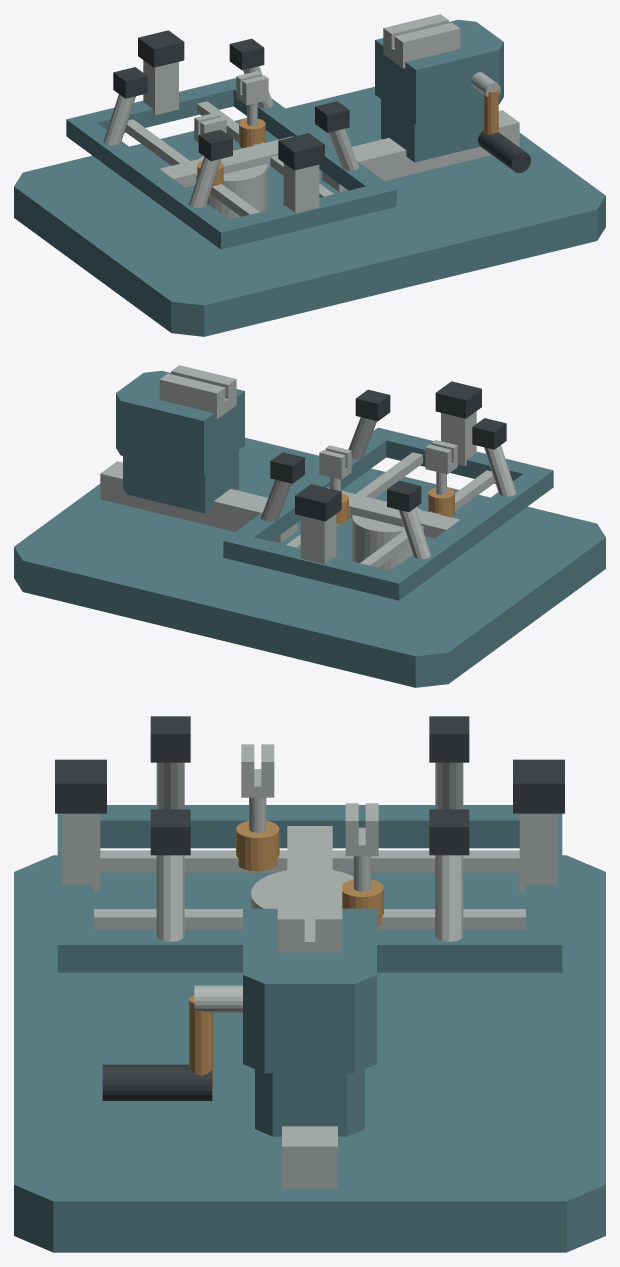
3 views of the same model, one above another, from view 1: azimuth 30°, elevation 25°; view 2: azimuth 150°, elevation 25°; view 3: azimuth 270°, elevation 25° (orthographic). The views are drawn at different scales.
Parts seen in each view (by area): view 1: WholeChamferedBenchtopBase, WholeOpenRectangularCarrier, WholeSideCrankTensionHousing, WholeTensionHeadCarriage, WholeSideTensionCarriageRail, WholeUpperSlottedStringGripper, WholeLowCarrierCrossbar, WholeCentralVerticalCarrierPedestal, WholeLeftClampGuideRail, WholeFarEndMountStandard, WholeNearEndMountStandard, WholeNearEndMountHead (+15 smaller); view 2: WholeChamferedBenchtopBase, WholeOpenRectangularCarrier, WholeSideCrankTensionHousing, WholeTensionHeadCarriage, WholeSideTensionCarriageRail, WholeUpperSlottedStringGripper, WholeCentralVerticalCarrierPedestal, WholeLowCarrierCrossbar, WholeFarEndMountStandard, WholeLeftClampGuideRail, WholeFarEndMountHead, WholeNearEndMountHead (+13 smaller); view 3: WholeChamferedBenchtopBase, WholeOpenRectangularCarrier, WholeSideCrankTensionHousing, WholeTensionHeadCarriage, WholeLeftClampGuideRail, WholeUpperSlottedStringGripper, WholeRightClampGuideRail, WholeCrankHandgrip, WholeSideTensionCarriageRail, WholeNearEndMountStandard, WholeFarEndMountStandard, WholeNearEndMountHead (+17 smaller).
Part boxes in pixels (x1=…): WholeChamferedBenchtopBase: x1=14, y1=86, x2=605, y2=336; WholeOpenRectangularCarrier: x1=66, y1=78, x2=396, y2=249; WholeSideCrankTensionHousing: x1=375, y1=19, x2=503, y2=124; WholeTensionHeadCarriage: x1=381, y1=99, x2=483, y2=162; WholeSideTensionCarriageRail: x1=322, y1=110, x2=519, y2=191; WholeUpperSlottedStringGripper: x1=383, y1=14, x2=460, y2=68; WholeLowCarrierCrossbar: x1=160, y1=136, x2=293, y2=187; WholeCentralVerticalCarrierPedestal: x1=199, y1=150, x2=267, y2=219; WholeLeftClampGuideRail: x1=124, y1=119, x2=259, y2=216; WholeFarEndMountStandard: x1=143, y1=60, x2=178, y2=115; WholeNearEndMountStandard: x1=283, y1=163, x2=319, y2=212; WholeNearEndMountHead: x1=278, y1=133, x2=324, y2=170; WholeChamferedBenchtopBase: x1=14, y1=437, x2=605, y2=687; WholeOpenRectangularCarrier: x1=223, y1=427, x2=553, y2=600; WholeSideCrankTensionHousing: x1=116, y1=370, x2=244, y2=475; WholeTensionHeadCarriage: x1=123, y1=450, x2=238, y2=513; WholeSideTensionCarriageRail: x1=100, y1=461, x2=297, y2=542; WholeUpperSlottedStringGripper: x1=159, y1=365, x2=236, y2=419; WholeCentralVerticalCarrierPedestal: x1=352, y1=501, x2=420, y2=570; WholeLowCarrierCrossbar: x1=326, y1=487, x2=459, y2=538; WholeFarEndMountStandard: x1=300, y1=514, x2=336, y2=563; WholeLeftClampGuideRail: x1=360, y1=470, x2=495, y2=567; WholeFarEndMountHead: x1=295, y1=484, x2=341, y2=521; WholeNearEndMountHead: x1=435, y1=381, x2=481, y2=418; WholeChamferedBenchtopBase: x1=14, y1=855, x2=605, y2=1252; WholeOpenRectangularCarrier: x1=57, y1=805, x2=562, y2=972; WholeSideCrankTensionHousing: x1=243, y1=908, x2=376, y2=1073; WholeTensionHeadCarriage: x1=255, y1=1069, x2=364, y2=1136; WholeLeftClampGuideRail: x1=100, y1=850, x2=519, y2=872; WholeUpperSlottedStringGripper: x1=277, y1=873, x2=342, y2=952; WholeRightClampGuideRail: x1=94, y1=909, x2=525, y2=929; WholeCrankHandgrip: x1=102, y1=1064, x2=212, y2=1100; WholeSideTensionCarriageRail: x1=282, y1=1126, x2=337, y2=1188; WholeNearEndMountStandard: x1=62, y1=813, x2=100, y2=892; WholeFarEndMountStandard: x1=519, y1=813, x2=557, y2=892; WholeNearEndMountHead: x1=55, y1=759, x2=106, y2=813.
Size of the model in its own units: 0.94 by 0.345 by 0.68.
